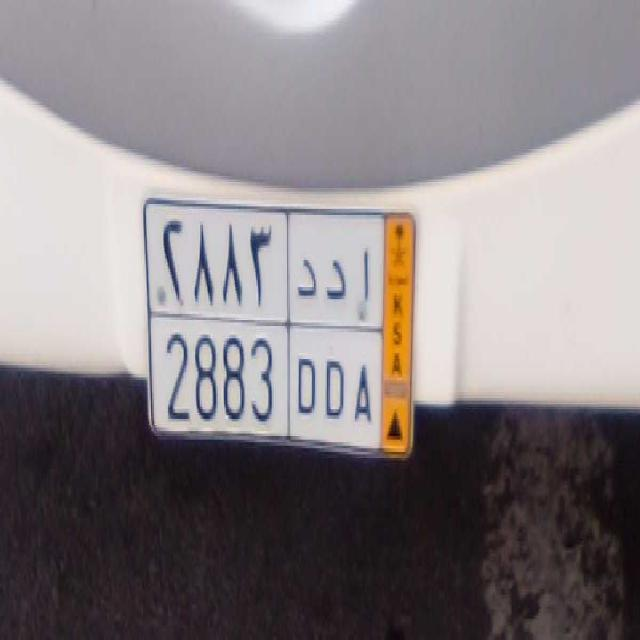license_plate: (141, 313, 383, 452)
